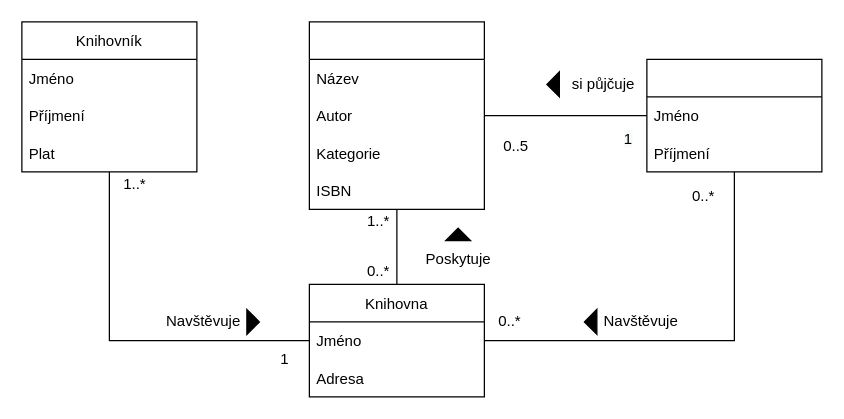
Image size: 844x419. Some labels were removed from this diagram. Here are the shapes that lost their labels. From the top down, the box of each, then its label:
(308, 21, 484, 209): Kniha
(646, 58, 822, 172): Čtenář
